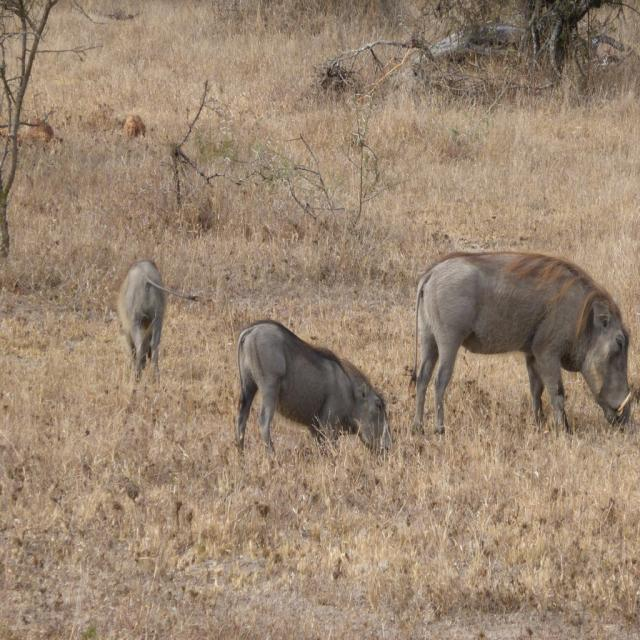Pig: (408, 250, 638, 444), (236, 318, 392, 472), (117, 261, 202, 387)
